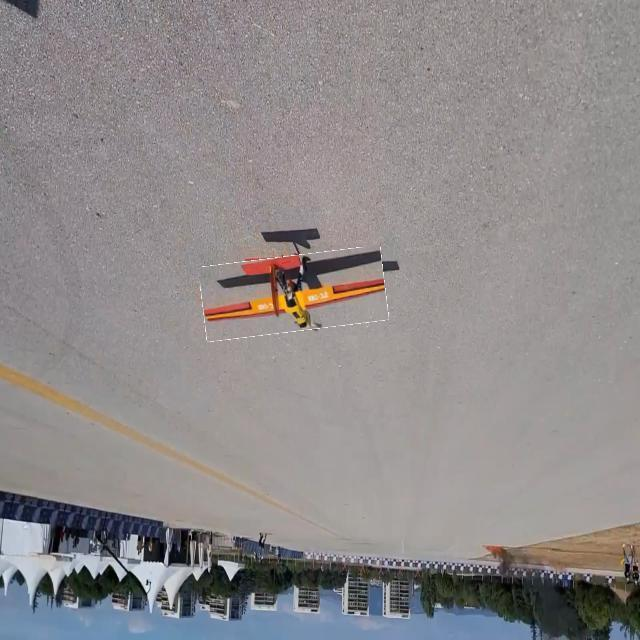UAV: (200, 244, 387, 340)
